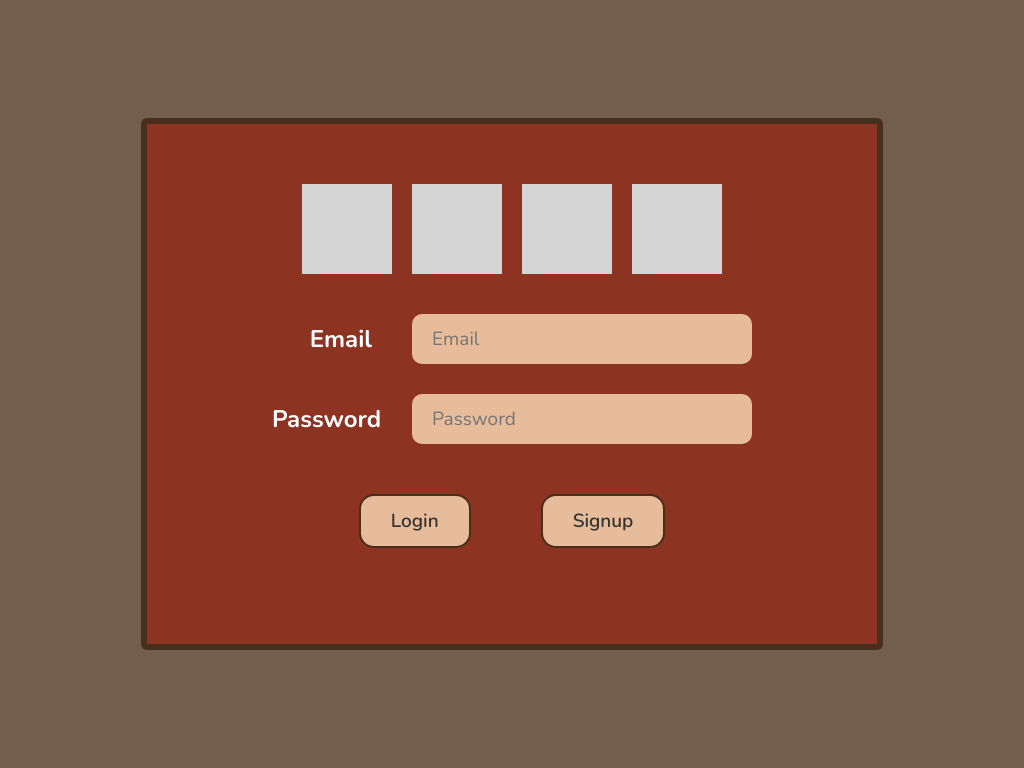
Login.signup › signup fails with normal error
The width and height of the screenshot is (1024, 768).
Step 1. Click the button "Signup" → (603,521), box [541, 494, 665, 548]
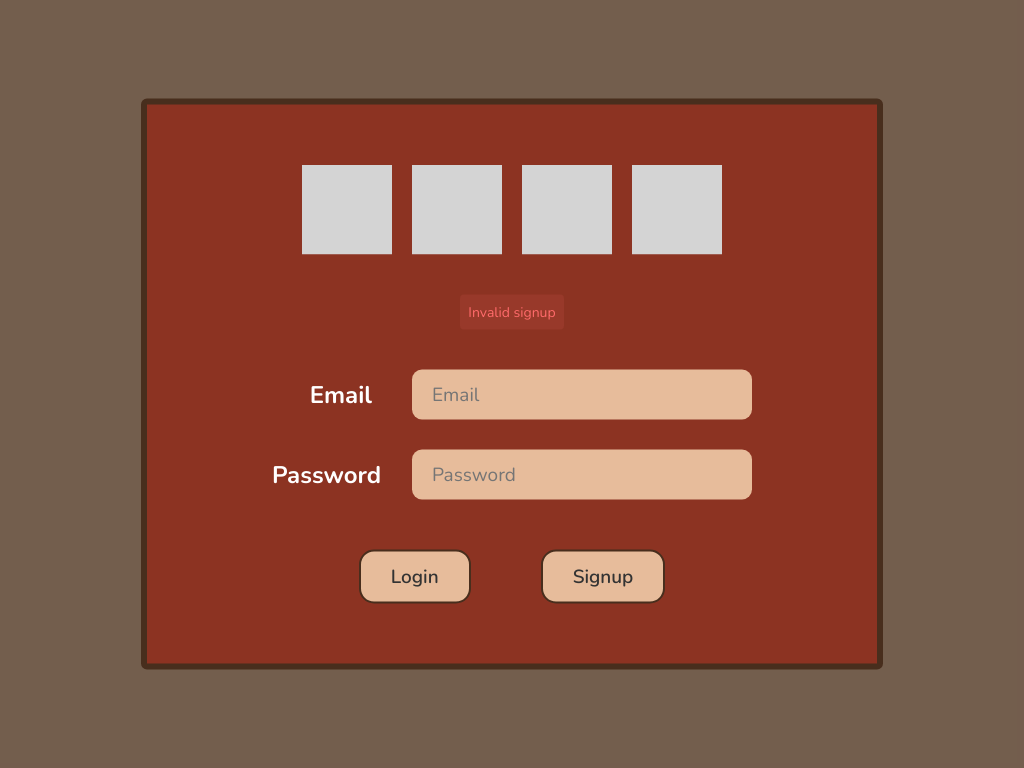
Now the text "Invalid signup" is shown, box [460, 294, 564, 330]
